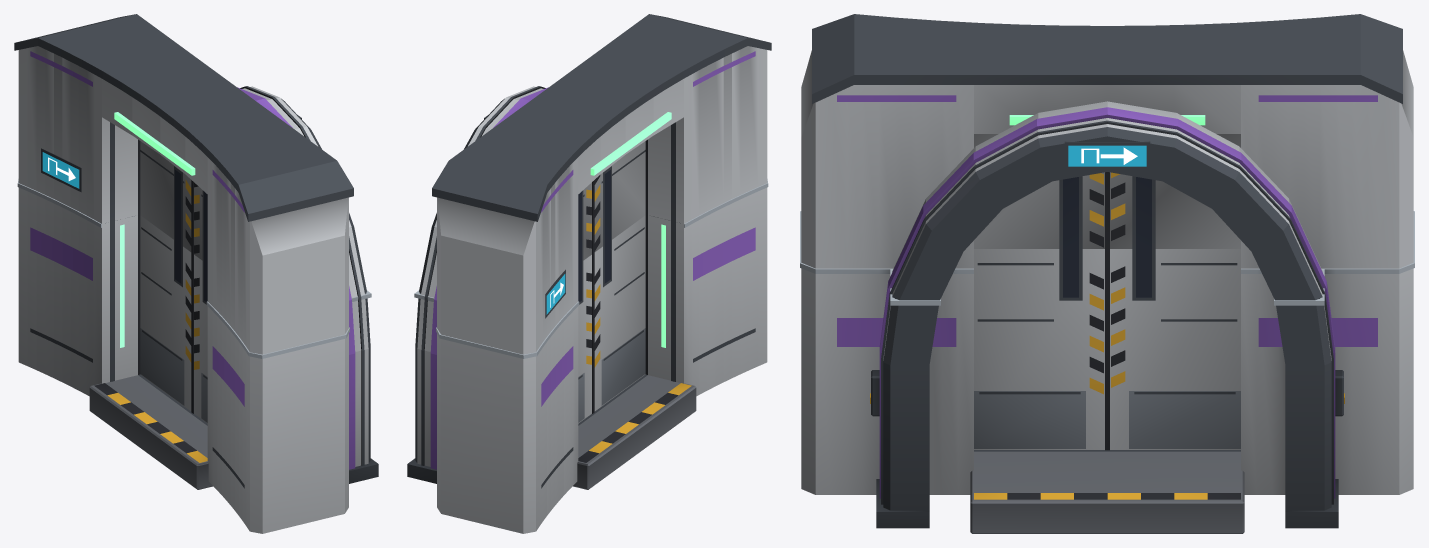
The model's file is doorway_flat_r700.glb.
3 renders of one model, left to right at view 1: azimuth 30°, elevation 25°; view 2: azimuth 150°, elevation 25°; view 3: azimuth 270°, elevation 25°, orthographic. The views are drawn at different scales.
Parts seen in each view (by area): view 1: FrameTop, Frame, DoorR, DoorRTop, DoorL, FrameCap, DoorLTop, Sign, Status, Lights; view 2: FrameTop, Frame, DoorL, DoorLTop, DoorR, FrameCap, DoorRTop, Status, Lights, Sign; view 3: FrameTop, Frame, DoorL, DoorR, DoorLTop, DoorRTop, Sign, FrameCap.
Part boxes in pixels (x1,y1,x2,y2): FrameTop: (14,14,366,354); Frame: (18,188,378,533); DoorR: (140,215,192,412); DoorRTop: (140,141,192,253); DoorL: (192,254,207,423); FrameCap: (17,179,371,358); DoorLTop: (192,181,207,264); Sign: (41,115,301,192); Status: (114,112,195,175); Lights: (120,224,124,347); FrameTop: (419,14,771,354); Frame: (407,188,767,533); DoorL: (593,215,645,412); DoorLTop: (593,141,645,253); DoorR: (578,254,593,423); FrameCap: (414,179,768,358); DoorRTop: (578,181,593,264); Status: (590,112,671,175); Lights: (661,224,665,347); Sign: (484,115,565,318); FrameTop: (801,14,1413,300); Frame: (801,268,1413,533); DoorL: (974,249,1107,450); DoorR: (1107,249,1240,450); DoorLTop: (974,134,1107,249); DoorRTop: (1107,134,1240,249); Sign: (1064,141,1150,169); FrameCap: (800,211,1414,305).
Size of the model in its own units: 1.28 by 2.67 by 3.46.
